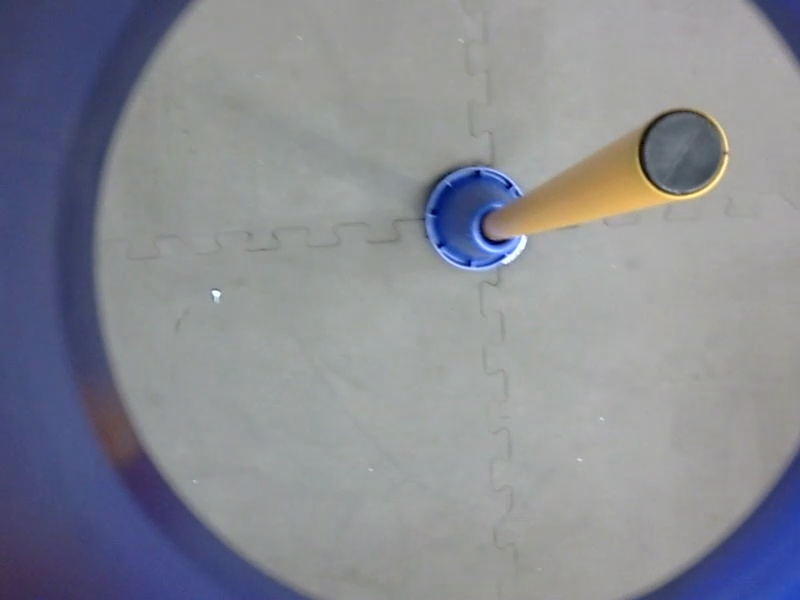tip: (632, 102, 734, 209)
